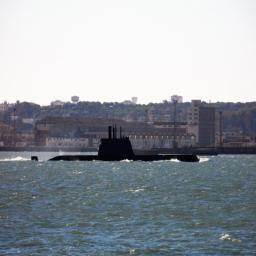submarine: (23, 130, 205, 160)
